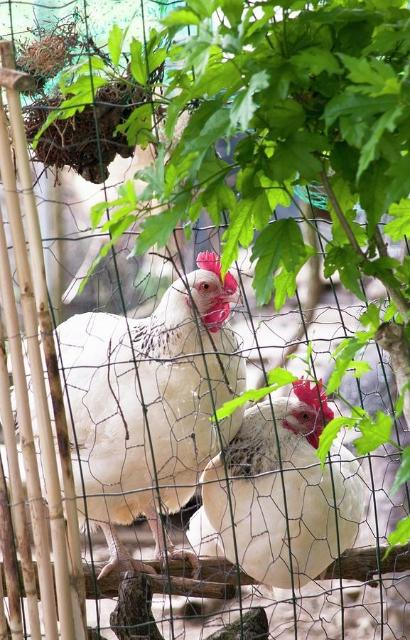Chicken: (0, 251, 246, 582), (202, 376, 368, 589)
